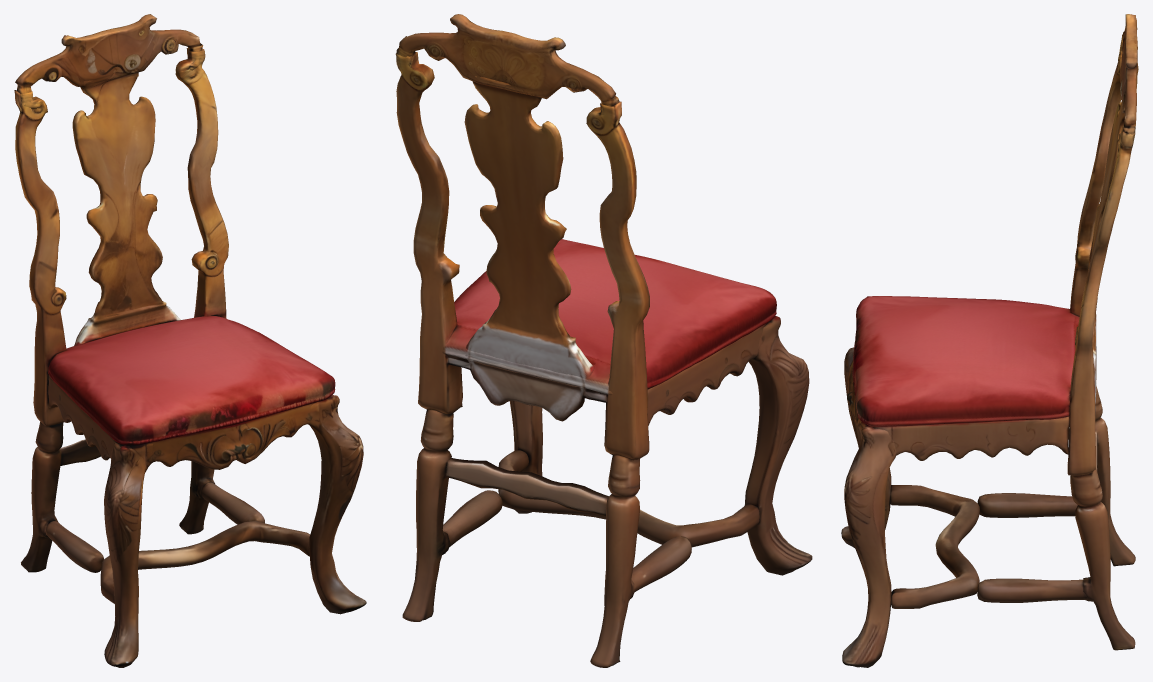
3 renders of one model, left to right at view 1: azimuth 30°, elevation 25°; view 2: azimuth 150°, elevation 25°; view 3: azimuth 270°, elevation 25°, orthographic. The views are drawn at different scales.
Visible parts, largest first — view 1: root.1, root.0, root.5, root.4, root.6, root.3, root.7, root.2, root.8, root.9, root.11, root.10; view 2: root.0, root.1, root.5, root.3, root.4, root.7, root.9, root.8, root.2, root.10, root.6, root.11; view 3: root.1, root.6, root.2, root.0, root.3, root.9, root.5, root.11, root.8, root.7, root.4.
Boxes of the visible parts, x1,y1,x2,y2 form: root.1: (48, 316, 335, 445); root.0: (48, 69, 327, 469); root.5: (14, 90, 66, 426); root.4: (104, 442, 153, 667); root.6: (308, 394, 366, 614); root.3: (175, 48, 228, 318); root.7: (15, 14, 203, 109); root.2: (45, 520, 309, 603); root.8: (21, 421, 63, 572); root.9: (179, 461, 214, 534); root.11: (192, 482, 264, 524); root.10: (60, 439, 100, 465); root.0: (448, 76, 767, 425); root.1: (442, 239, 776, 395); root.5: (586, 101, 649, 460); root.3: (395, 52, 462, 414); root.4: (744, 316, 812, 575); root.7: (396, 14, 619, 106); root.9: (402, 409, 453, 621); root.8: (590, 455, 640, 667); root.2: (498, 450, 759, 592); root.10: (445, 458, 608, 516); root.6: (509, 400, 542, 513); root.11: (438, 490, 502, 552); root.1: (852, 296, 1096, 426); root.6: (842, 422, 896, 667); root.2: (890, 485, 1077, 608); root.0: (847, 101, 1124, 460); root.3: (1067, 126, 1135, 475); root.9: (1070, 469, 1135, 650); root.5: (1070, 34, 1122, 316); root.11: (977, 578, 1086, 602); root.8: (1095, 386, 1135, 566); root.7: (1118, 14, 1138, 143); root.4: (841, 347, 891, 547).
Size of the model in its own units: 0.5301 by 1.03 by 0.4883.
12 materials, 12 textured.
